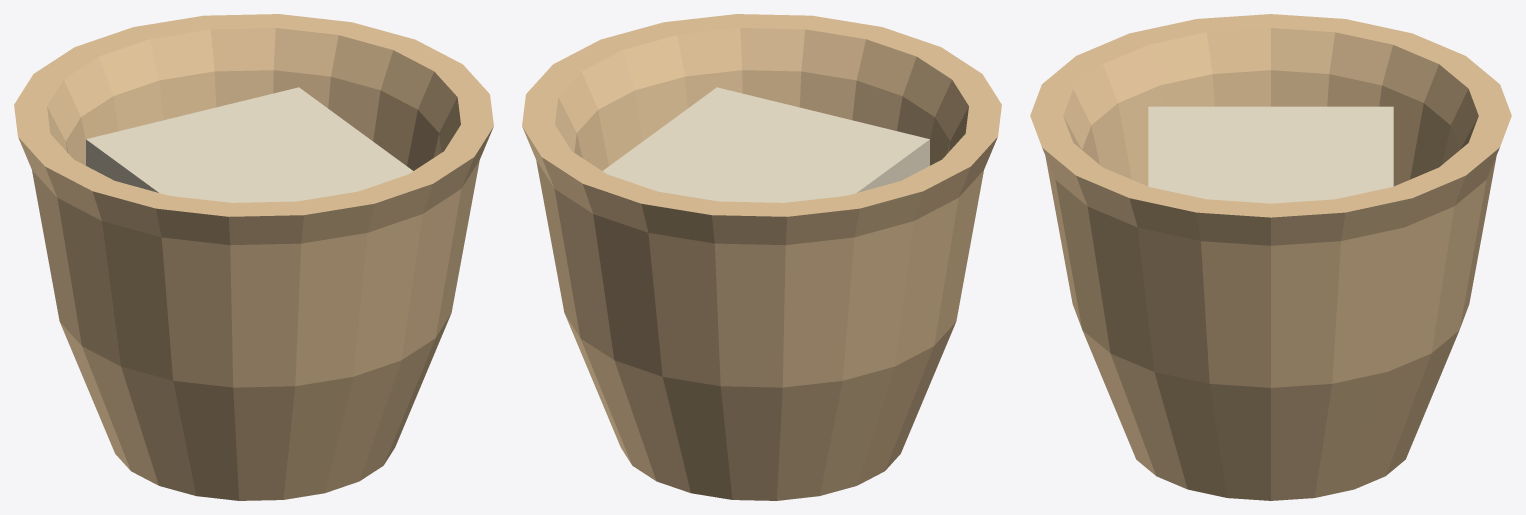
The model's file is SM_Prop_BambooBasket.fbx.
3 renders of one model, left to right at view 1: azimuth 30°, elevation 25°; view 2: azimuth 150°, elevation 25°; view 3: azimuth 270°, elevation 25°, orthographic.
Visible parts, largest first — view 1: BasketBody, Cloth; view 2: BasketBody, Cloth; view 3: BasketBody, Cloth.
Part boxes in pixels (box(x1,y1,x2,y2)): BasketBody: box(14, 14, 493, 500); Cloth: box(86, 87, 413, 202); BasketBody: box(522, 14, 1001, 500); Cloth: box(602, 87, 929, 202); BasketBody: box(1030, 14, 1511, 500); Cloth: box(1148, 106, 1393, 203).
Size of the model in its own units: 0.51 by 0.38 by 0.51.
